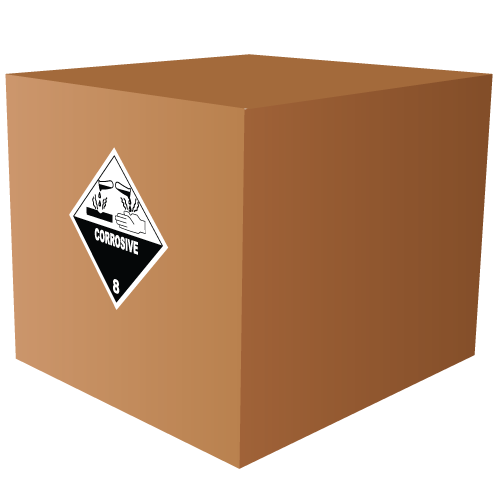Corrosive: (68, 147, 168, 310)
